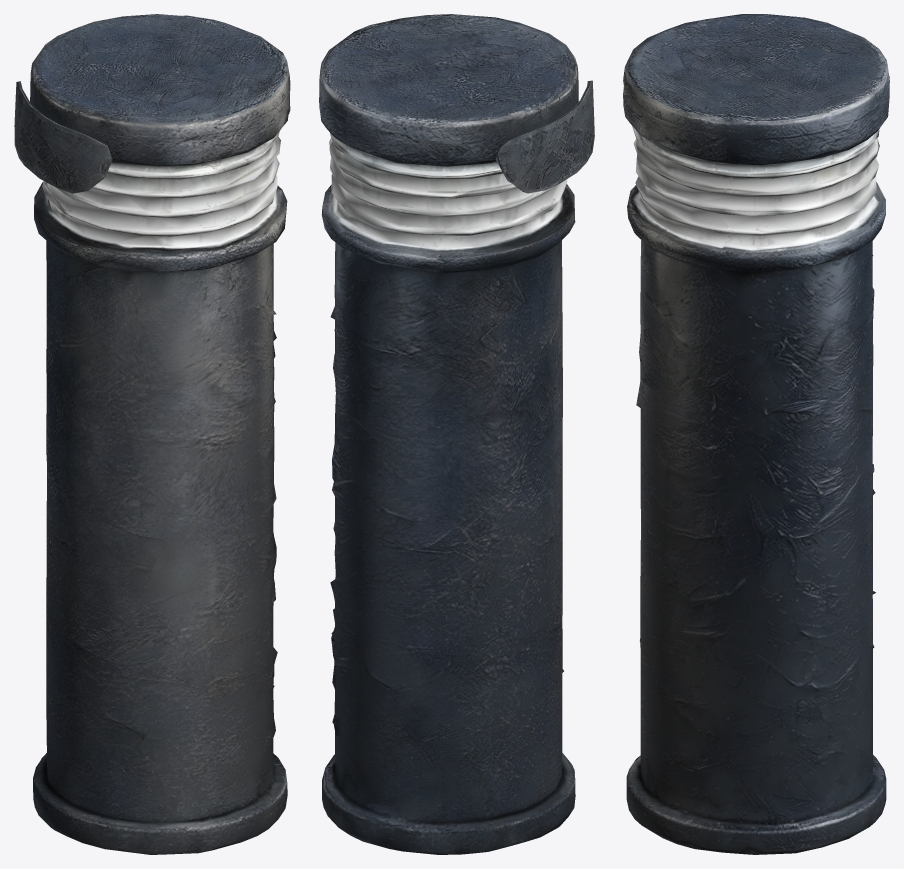
Rendered from bollard_light.fbx.
3 renders of one model, left to right at view 1: azimuth 30°, elevation 25°; view 2: azimuth 150°, elevation 25°; view 3: azimuth 270°, elevation 25°, orthographic.
Parts seen in each view (by area): view 1: bollard_light; view 2: bollard_light; view 3: bollard_light.
Part boxes in pixels (x1,y1,x2,y2): bollard_light: (14,14,290,854); bollard_light: (319,14,594,854); bollard_light: (623,14,889,854).
Bounding box in the file's own units: 0.3379 × 1 × 0.328.
1 material, 1 textured.
